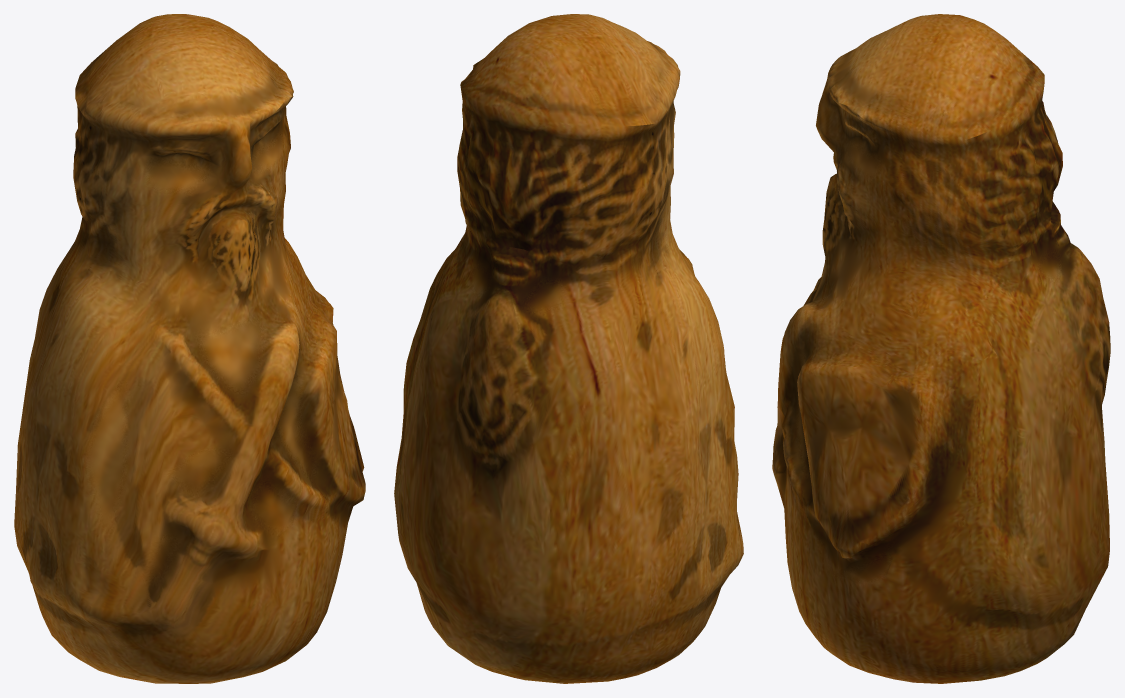
File: Muscovit_Pawn.fbx
The picture shows the model from 3 angles, left to right: view 1: azimuth 30°, elevation 25°; view 2: azimuth 150°, elevation 25°; view 3: azimuth 270°, elevation 25°; orthographic projection.
Visible parts, largest first — view 1: Muscovit_Pawn; view 2: Muscovit_Pawn; view 3: Muscovit_Pawn.
Boxes of the visible parts, left/top/right/bottom form: Muscovit_Pawn: left=14, top=14, right=365, bottom=683; Muscovit_Pawn: left=394, top=14, right=743, bottom=683; Muscovit_Pawn: left=772, top=14, right=1110, bottom=683.
Bounding box in the file's own units: 6.04 × 12.26 × 6.09.
1 material, 1 textured.
